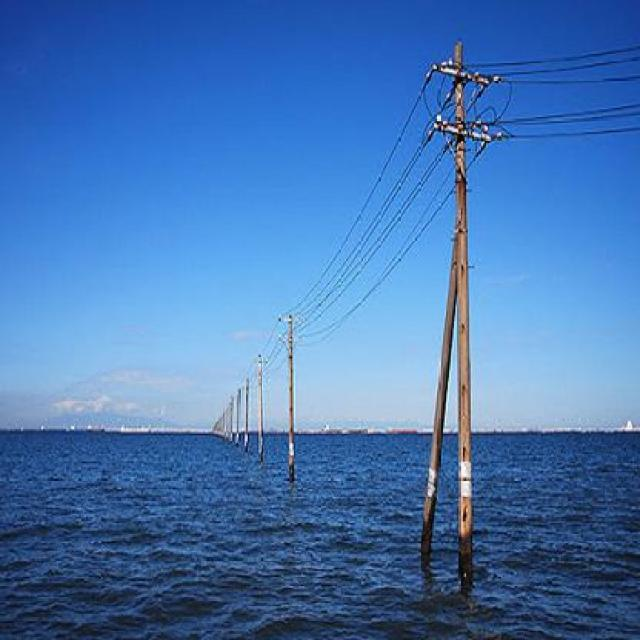pole: (415, 36, 514, 536), (270, 310, 318, 478)
